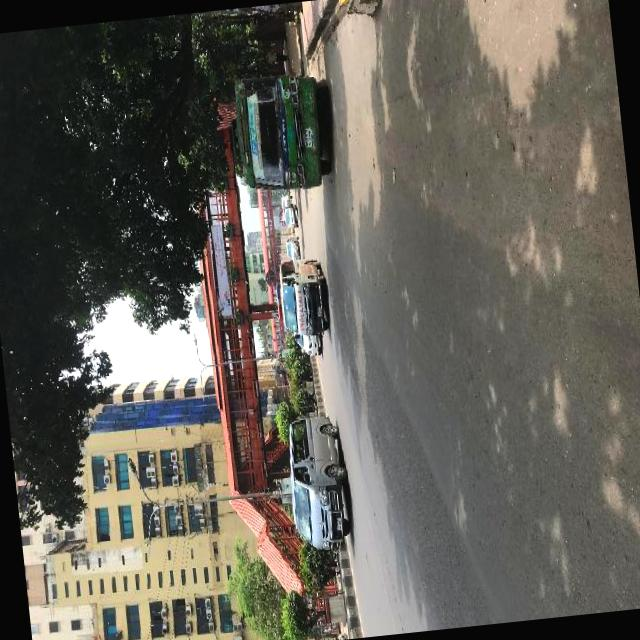bus: (226, 68, 337, 196)
car: (294, 335, 322, 360), (282, 203, 298, 230), (284, 237, 300, 260)
truck: (282, 414, 352, 556), (270, 256, 332, 344), (279, 194, 292, 209)
